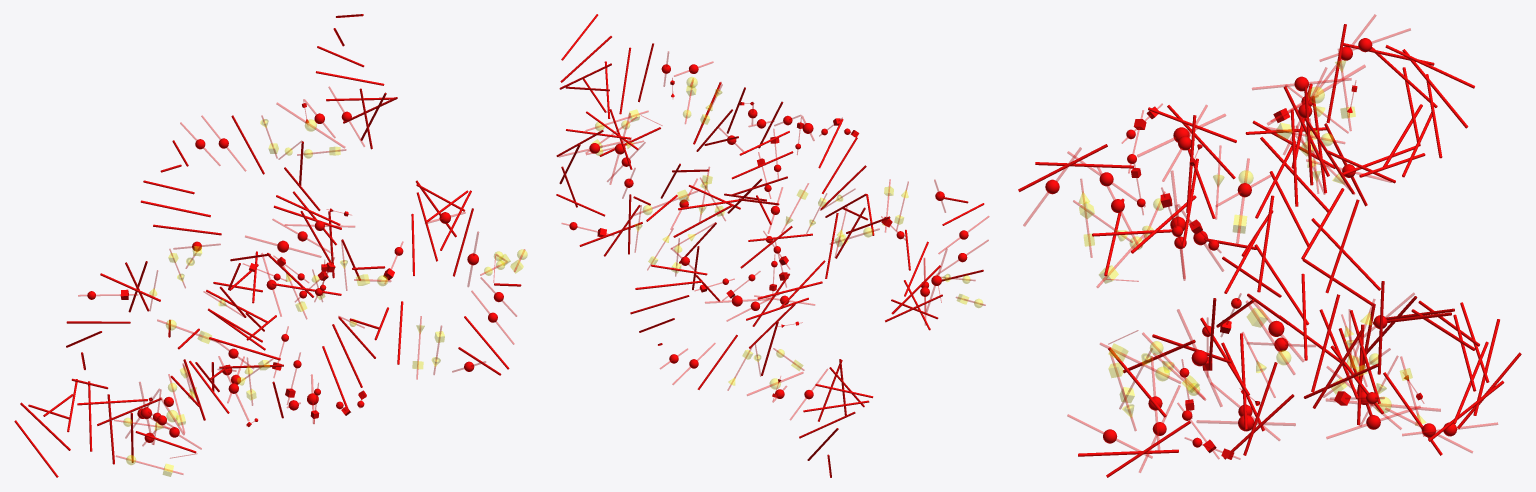
File: candidate.gltf
3 renders of one model, left to right at view 1: azimuth 30°, elevation 25°; view 2: azimuth 150°, elevation 25°; view 3: azimuth 270°, elevation 25°, orthographic. The views are drawn at different scales.
Size of the model in its own units: 91.49 by 86.02 by 68.66.
